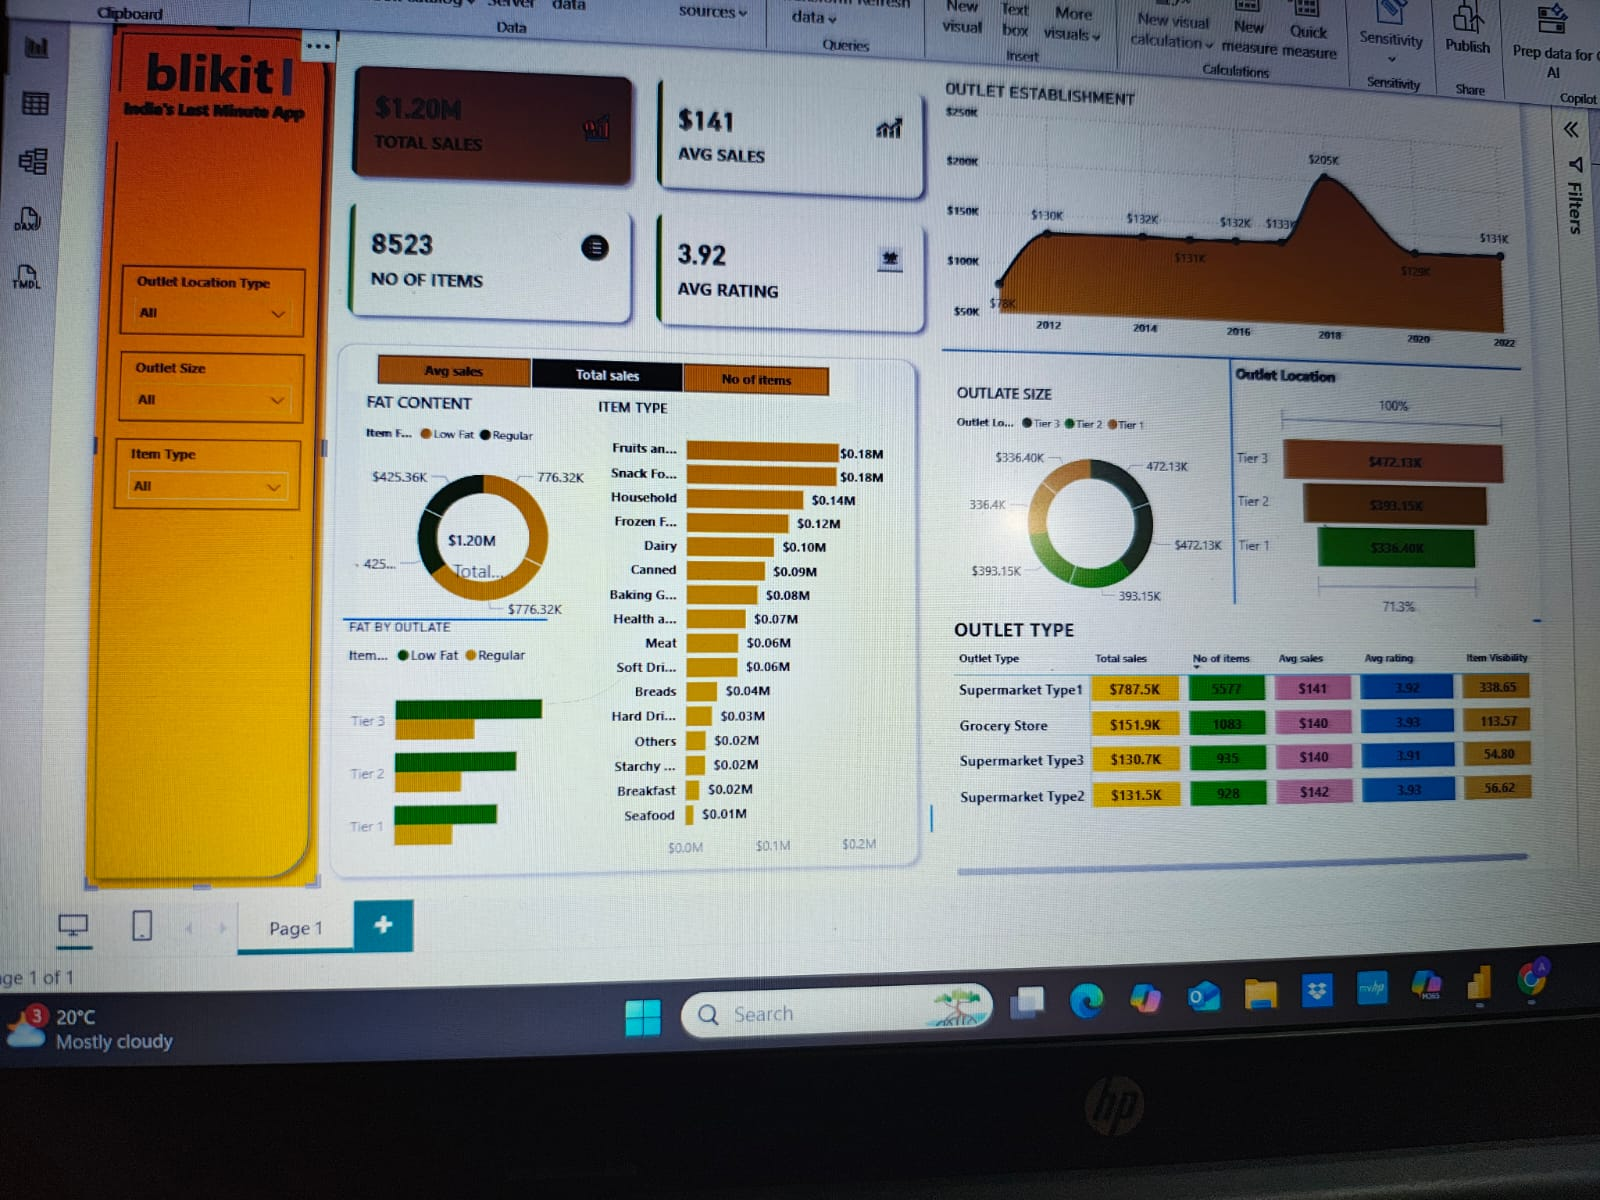

What the dashboard file says about the page in this screenshot:
{"tool":"powerbi","page":{"name":"Page 1","canvas":[1400,800],"ordinal":0},"visuals":[{"type":"shape","box":[0,0,204.1,788],"z":0},{"type":"textbox","box":[262.7,507.3,202.6,243.1],"z":1},{"type":"textbox","box":[27,18,142.6,64.5],"z":2},{"type":"textbox","box":[3,66,186.1,48],"z":3},{"type":"cardVisual","fields":{"Data":["BlinkIT Grocery Data.Total sales","BlinkIT Grocery Data.Avg sales","BlinkIT Grocery Data.No of items","BlinkIT Grocery Data.Avg rating"]},"box":[204.1,18,570.3,270.2],"z":4},{"type":"shape","box":[204,288,554,500],"z":5},{"type":"donutChart","title":"FAT CONTENT","fields":{"Y":["Sum(BlinkIT Grocery Data.Sales)","BlinkIT Grocery Data.Total sales"],"Category":["BlinkIT Grocery Data.Item Fat Content"]},"box":[234.1,340.7,220.6,219.1],"z":6},{"type":"slicer","fields":{"Values":["metrics.metrics"]},"box":[222.1,300.2,465.3,40.5],"z":7},{"type":"cardVisual","fields":{"Data":["BlinkIT Grocery Data.Total sales"]},"box":[285.2,450.3,99.1,73.5],"z":8},{"type":"clusteredBarChart","title":"FAT BY OUTLATE","fields":{"Y":["BlinkIT Grocery Data.Total sales"],"Category":["BlinkIT Grocery Data.Outlet Location Type"],"Series":["BlinkIT Grocery Data.Item Fat Content"]},"box":[222.1,547.8,220.6,229.6],"z":9},{"type":"shape","box":[222.1,537.3,180.1,22.5],"z":10},{"type":"shape","box":[757.6,724.3,9.1,25.7],"z":11},{"type":"barChart","title":"ITEM TYPE","fields":{"Category":["BlinkIT Grocery Data.Item Type"],"Y":["BlinkIT Grocery Data.Total sales"]},"box":[442.8,340.7,297.2,436.8],"z":12},{"type":"lineChart","title":"OUTLET ESTABLISHMENT","fields":{"Category":["BlinkIT Grocery Data.Outlet Establishment Year"],"Y":["BlinkIT Grocery Data.Total sales"]},"box":[774.3,18.1,612.4,258.6],"z":14},{"type":"shape","box":[774.3,136.1,612.4,300.9],"z":15},{"type":"donutChart","title":"OUTLATE SIZE","fields":{"Y":["Sum(BlinkIT Grocery Data.Sales)","BlinkIT Grocery Data.Total sales"],"Category":["BlinkIT Grocery Data.Outlet Location Type"]},"box":[784.8,317.6,275,225],"z":16},{"type":"shape","box":[922.4,287.3,288.8,245],"z":17},{"type":"funnel","title":" Outlet Location ","fields":{"Y":["BlinkIT Grocery Data.Total sales"],"Category":["BlinkIT Grocery Data.Outlet Location Type"]},"box":[1067.6,291.9,305.5,257.1],"z":18},{"type":"shape","box":[780.3,424.9,620,245],"z":19},{"type":"pivotTable","title":"OUTLET TYPE","fields":{"Rows":["BlinkIT Grocery Data.Outlet Type"],"Values":["BlinkIT Grocery Data.Total sales","BlinkIT Grocery Data.No of items","BlinkIT Grocery Data.Avg sales","BlinkIT Grocery Data.Avg rating","Sum(BlinkIT Grocery Data.Item Visibility)"]},"box":[780.3,544.4,610.9,252.5],"z":20},{"type":"slicer","fields":{"Values":["BlinkIT Grocery Data.Outlet Location Type"]},"box":[20.1,229.2,162.2,63],"z":21},{"type":"slicer","fields":{"Values":["BlinkIT Grocery Data.Outlet Size"]},"box":[21.4,308.3,162.2,63],"z":22},{"type":"slicer","fields":{"Values":["BlinkIT Grocery Data.Item Type"]},"box":[20.1,387.4,162.2,63],"z":23}]}

Visuals, with their boxes on the page's 1400x800 design canvas (x1, y1, x2, y2). These are canvas units, not pixel positions in the 1600x1200 screenshot, which may show the page scaled, cropped or inside an application window:
shape: [x1=0, y1=0, x2=204, y2=788]
textbox: [x1=263, y1=507, x2=465, y2=750]
textbox: [x1=27, y1=18, x2=170, y2=82]
textbox: [x1=3, y1=66, x2=189, y2=114]
cardVisual - BlinkIT Grocery Data.Total sales x BlinkIT Grocery Data.Avg sales: [x1=204, y1=18, x2=774, y2=288]
shape: [x1=204, y1=288, x2=758, y2=788]
"FAT CONTENT" donutChart: [x1=234, y1=341, x2=455, y2=560]
slicer - metrics.metrics: [x1=222, y1=300, x2=687, y2=341]
cardVisual - BlinkIT Grocery Data.Total sales: [x1=285, y1=450, x2=384, y2=524]
"FAT BY OUTLATE" clusteredBarChart: [x1=222, y1=548, x2=443, y2=777]
shape: [x1=222, y1=537, x2=402, y2=560]
shape: [x1=758, y1=724, x2=767, y2=750]
"ITEM TYPE" barChart: [x1=443, y1=341, x2=740, y2=778]
"OUTLET ESTABLISHMENT" lineChart: [x1=774, y1=18, x2=1387, y2=277]
shape: [x1=774, y1=136, x2=1387, y2=437]
"OUTLATE SIZE" donutChart: [x1=785, y1=318, x2=1060, y2=543]
shape: [x1=922, y1=287, x2=1211, y2=532]
" Outlet Location " funnel: [x1=1068, y1=292, x2=1373, y2=549]
shape: [x1=780, y1=425, x2=1400, y2=670]
"OUTLET TYPE" pivotTable: [x1=780, y1=544, x2=1391, y2=797]
slicer - BlinkIT Grocery Data.Outlet Location Type: [x1=20, y1=229, x2=182, y2=292]
slicer - BlinkIT Grocery Data.Outlet Size: [x1=21, y1=308, x2=184, y2=371]
slicer - BlinkIT Grocery Data.Item Type: [x1=20, y1=387, x2=182, y2=450]
